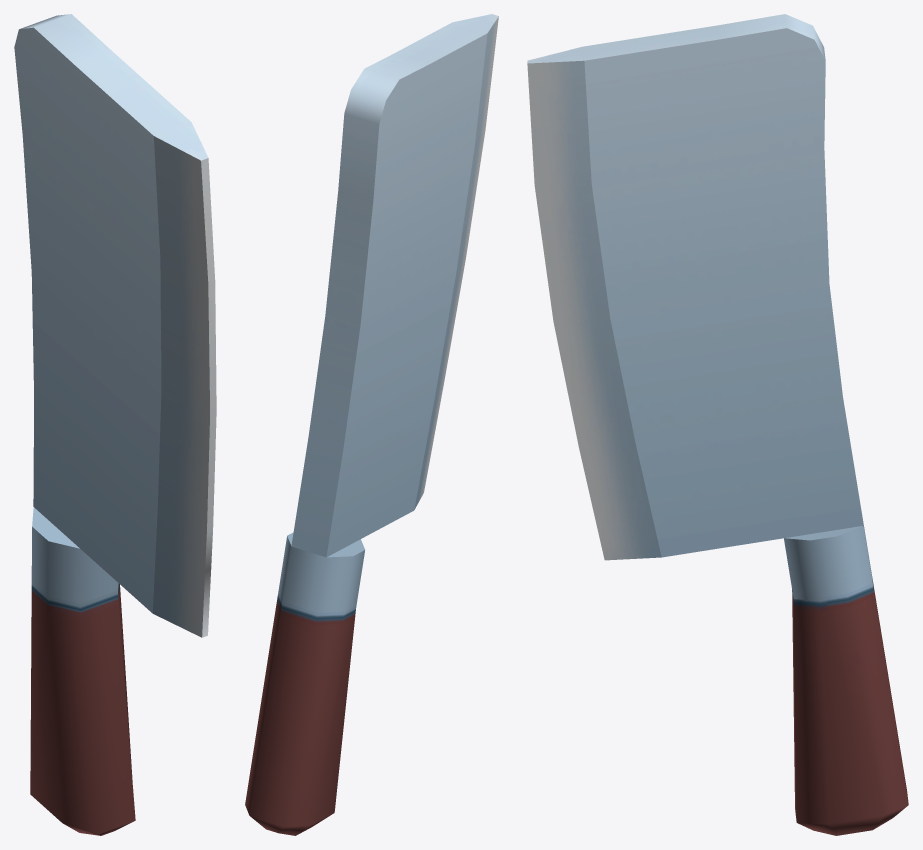
Rendered from Cleaver.fbx.
The picture shows the model from 3 angles, left to right: view 1: azimuth 30°, elevation 25°; view 2: azimuth 150°, elevation 25°; view 3: azimuth 270°, elevation 25°; orthographic projection. The views are drawn at different scales.
Parts seen in each view (by area): view 1: Cleaver; view 2: Cleaver; view 3: Cleaver.
Part boxes in pixels (x1,y1,x2,y2): Cleaver: [14, 14, 216, 835]; Cleaver: [245, 14, 498, 835]; Cleaver: [527, 14, 908, 835].
Bounding box in the file's own units: 0.1659 × 1.08 × 0.4803.
